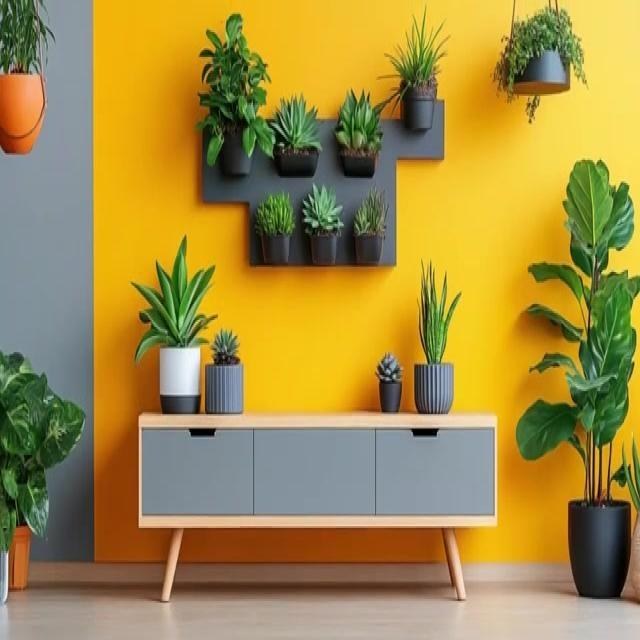obstacle: (137, 409, 497, 603)
